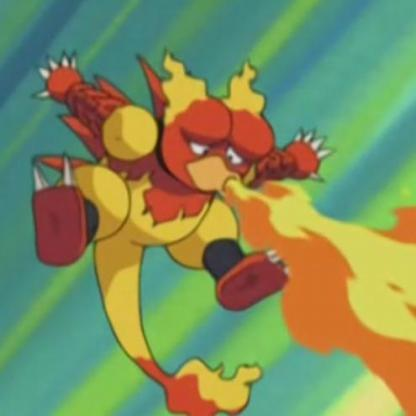Magmar: (23, 8, 416, 416)
